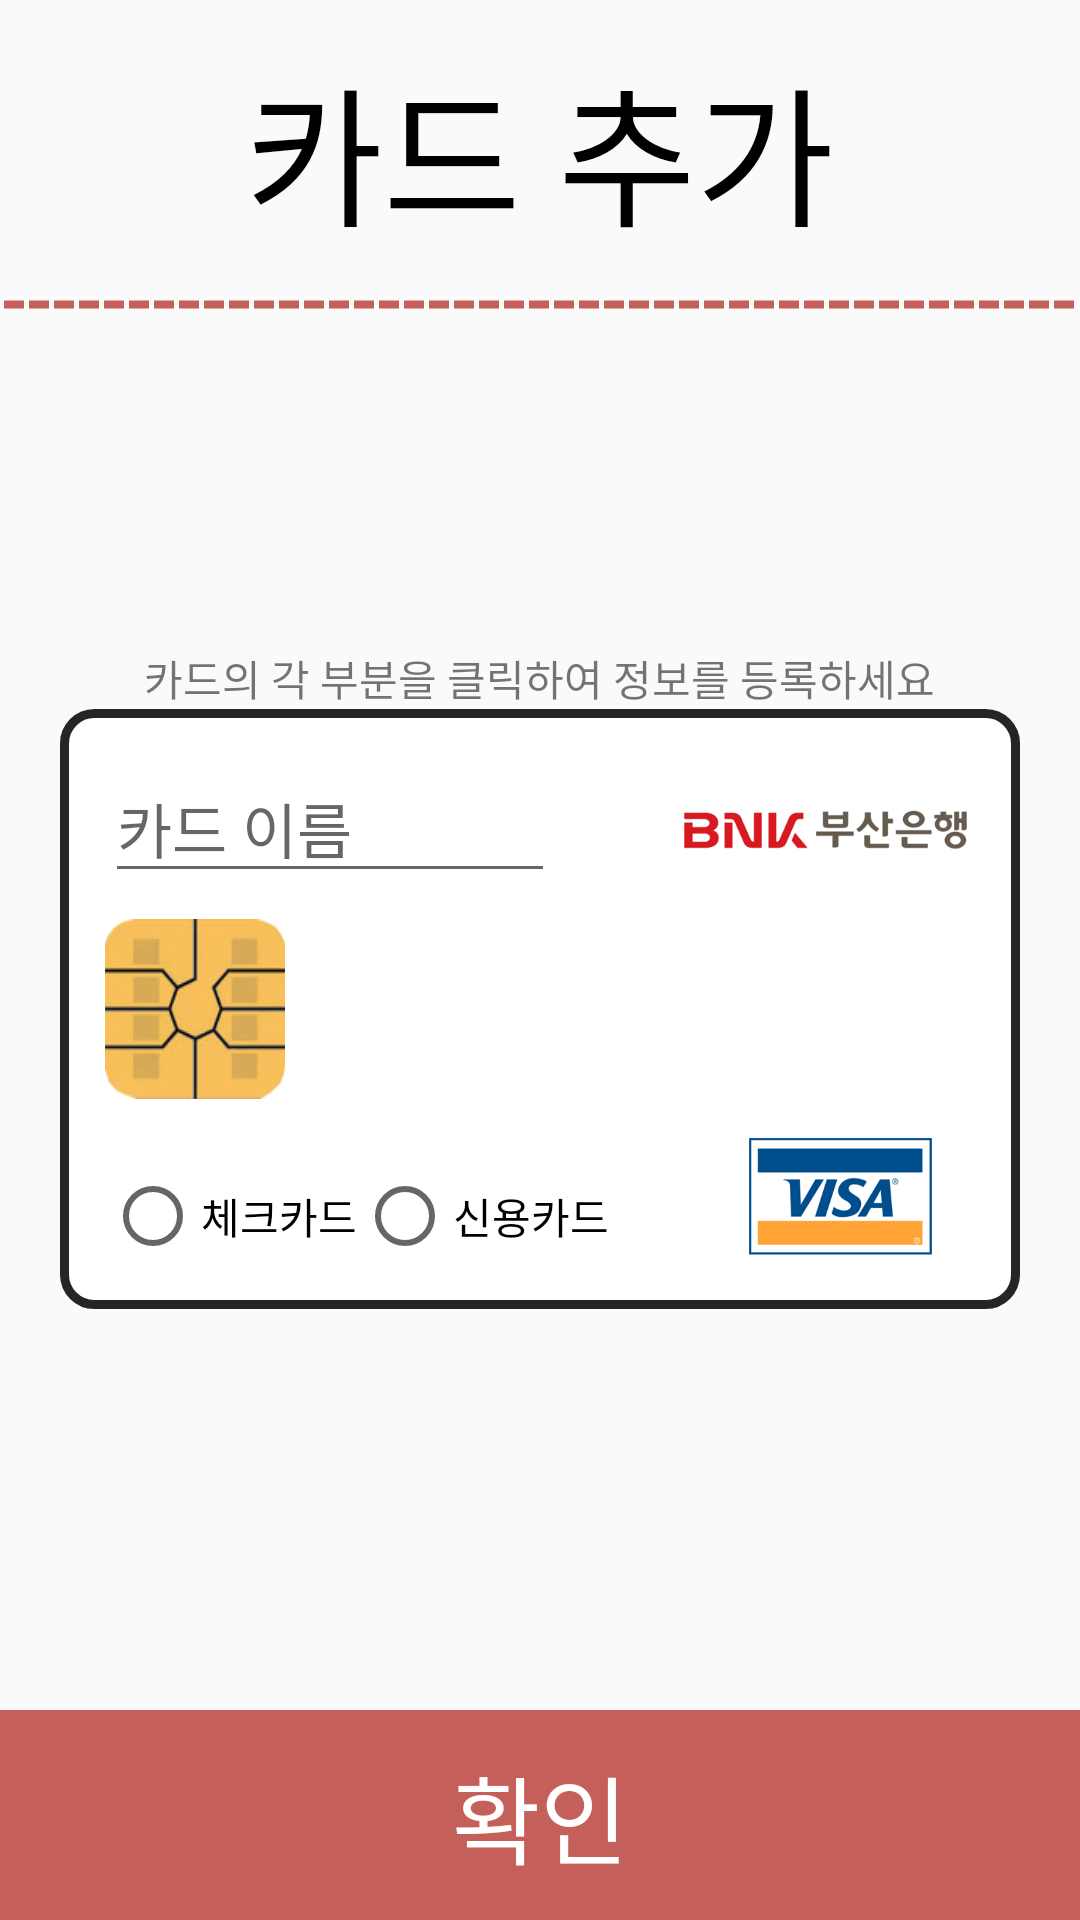

Locate icon controls on the screen. Image size 1080×1920, boxes as [x1,y1,x2,y2].
chip: [105,919,285,1099]
